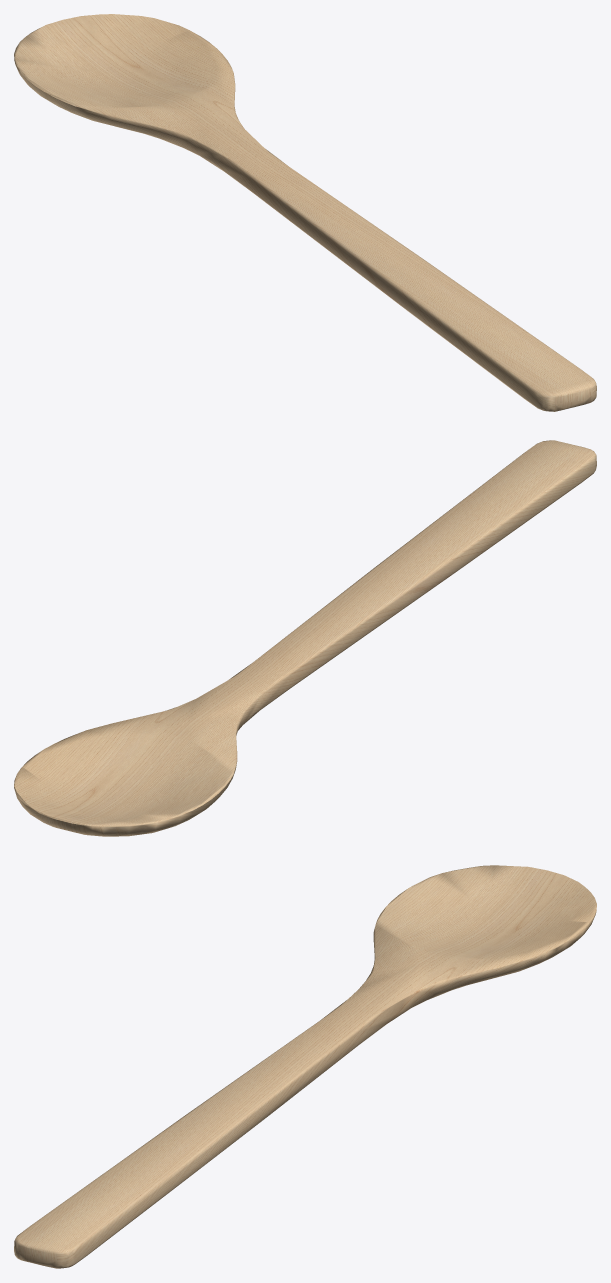
File: Wood spoon.FBX
The picture shows the model from 3 angles, top to bottom: view 1: azimuth 30°, elevation 25°; view 2: azimuth 150°, elevation 25°; view 3: azimuth 330°, elevation 25°; orthographic projection.
Parts seen in each view (by area): view 1: wood spoon; view 2: wood spoon; view 3: wood spoon.
Part boxes in pixels (bbox=[...]): wood spoon: bbox=[14, 14, 596, 411]; wood spoon: bbox=[14, 440, 596, 836]; wood spoon: bbox=[14, 865, 596, 1268].
Size of the model in its own units: 47.7 by 5.38 by 241.
1 material, 1 textured.
